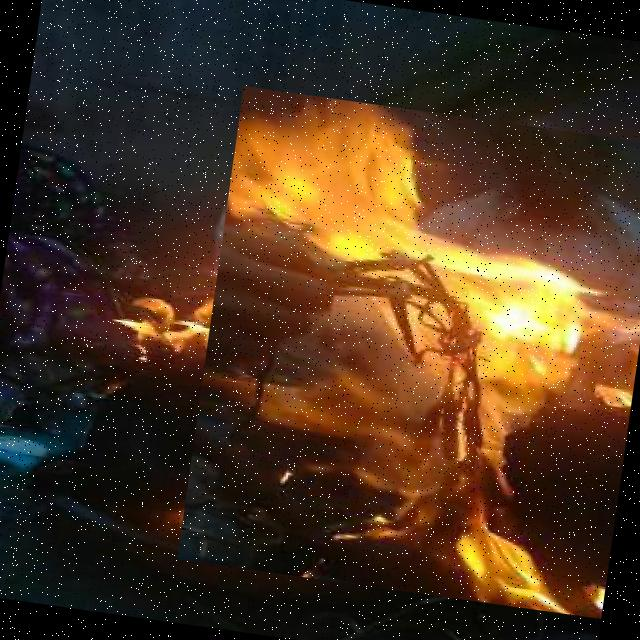fire: (177, 86, 640, 619)
